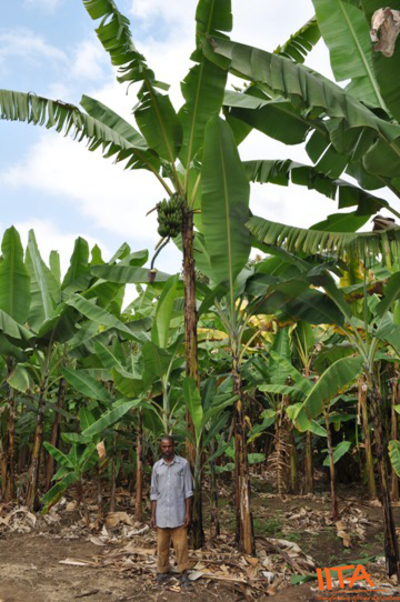bananaHand: (154, 191, 190, 241)
